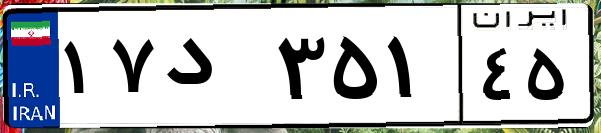1: (385, 28, 445, 110), (57, 26, 110, 100)
3: (270, 28, 330, 110)
4: (475, 38, 525, 113)
5: (330, 28, 385, 110), (525, 38, 570, 115)
7: (110, 28, 158, 98)
د: (158, 20, 270, 120)
